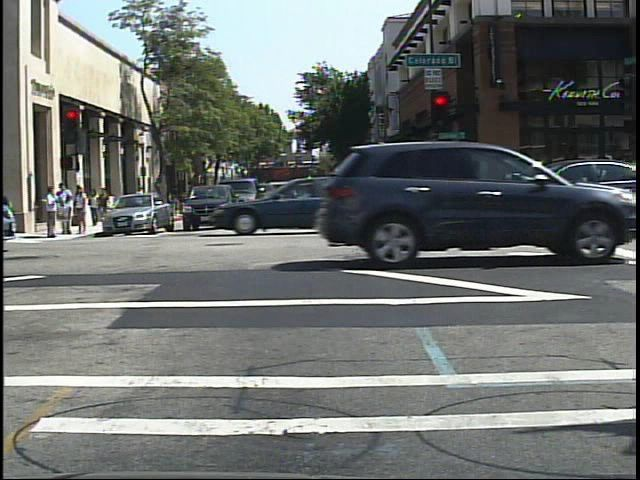person: (133, 183, 150, 219), (166, 182, 182, 219), (89, 187, 103, 228)
